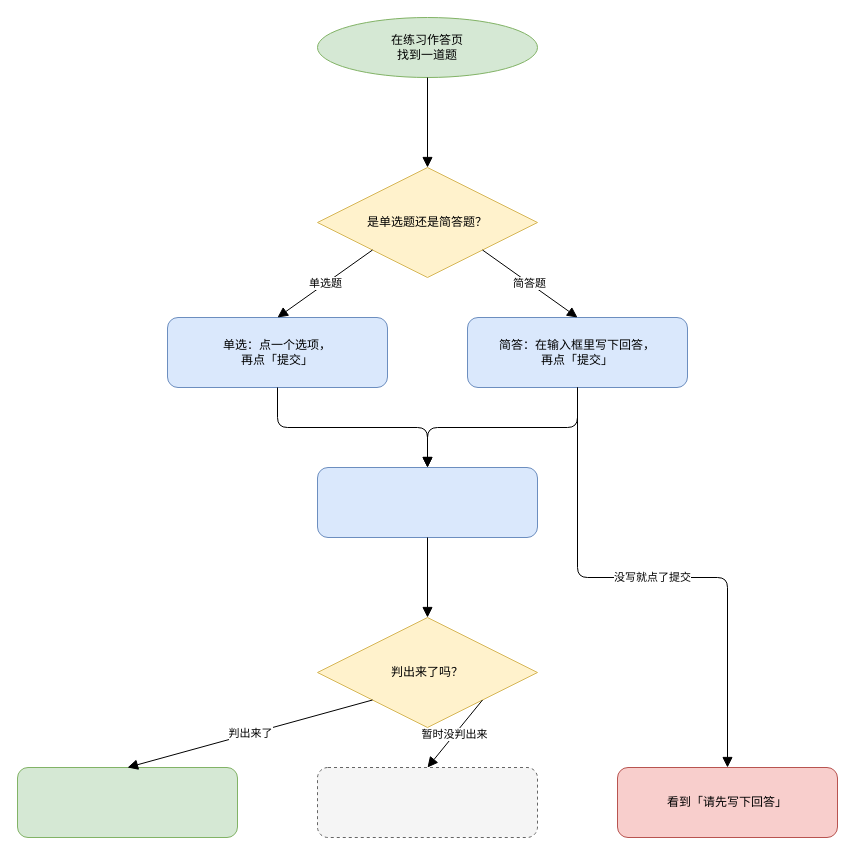
Some shapes in this 855 by 855 pixel diagram are drawn without their labels. The shapes that lost their labels are listed below. From the top down, each one's centre as x and y in pixels, then its label:
At [427,502]: "提交后判分：单选当场比答案， 简答交给 AI 评".
At [127,802]: "看到「答对」或「答错」、 分数、参考答案与解析".
At [427,802]: "看到「未判分」， 并给出「重判」按钮 （这不是答错）".
